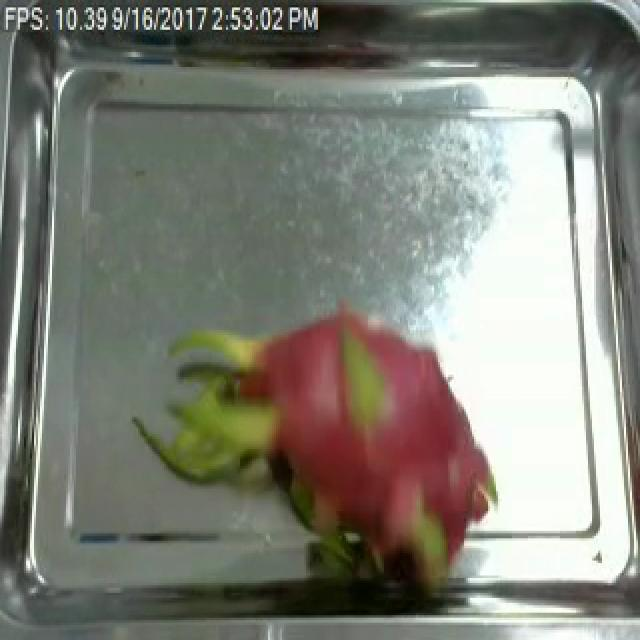fruit: (118, 280, 514, 600)
